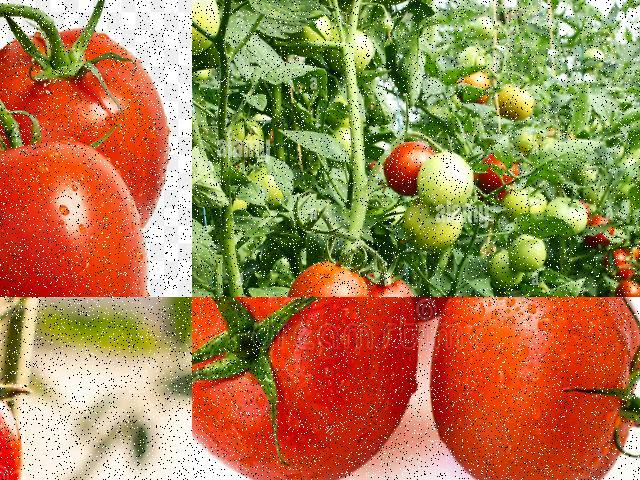tomato: (192, 297, 429, 479), (435, 297, 639, 479), (0, 22, 171, 230), (0, 140, 154, 296), (377, 133, 429, 191), (287, 263, 371, 296), (365, 271, 419, 296), (472, 162, 516, 190), (616, 283, 639, 296)
